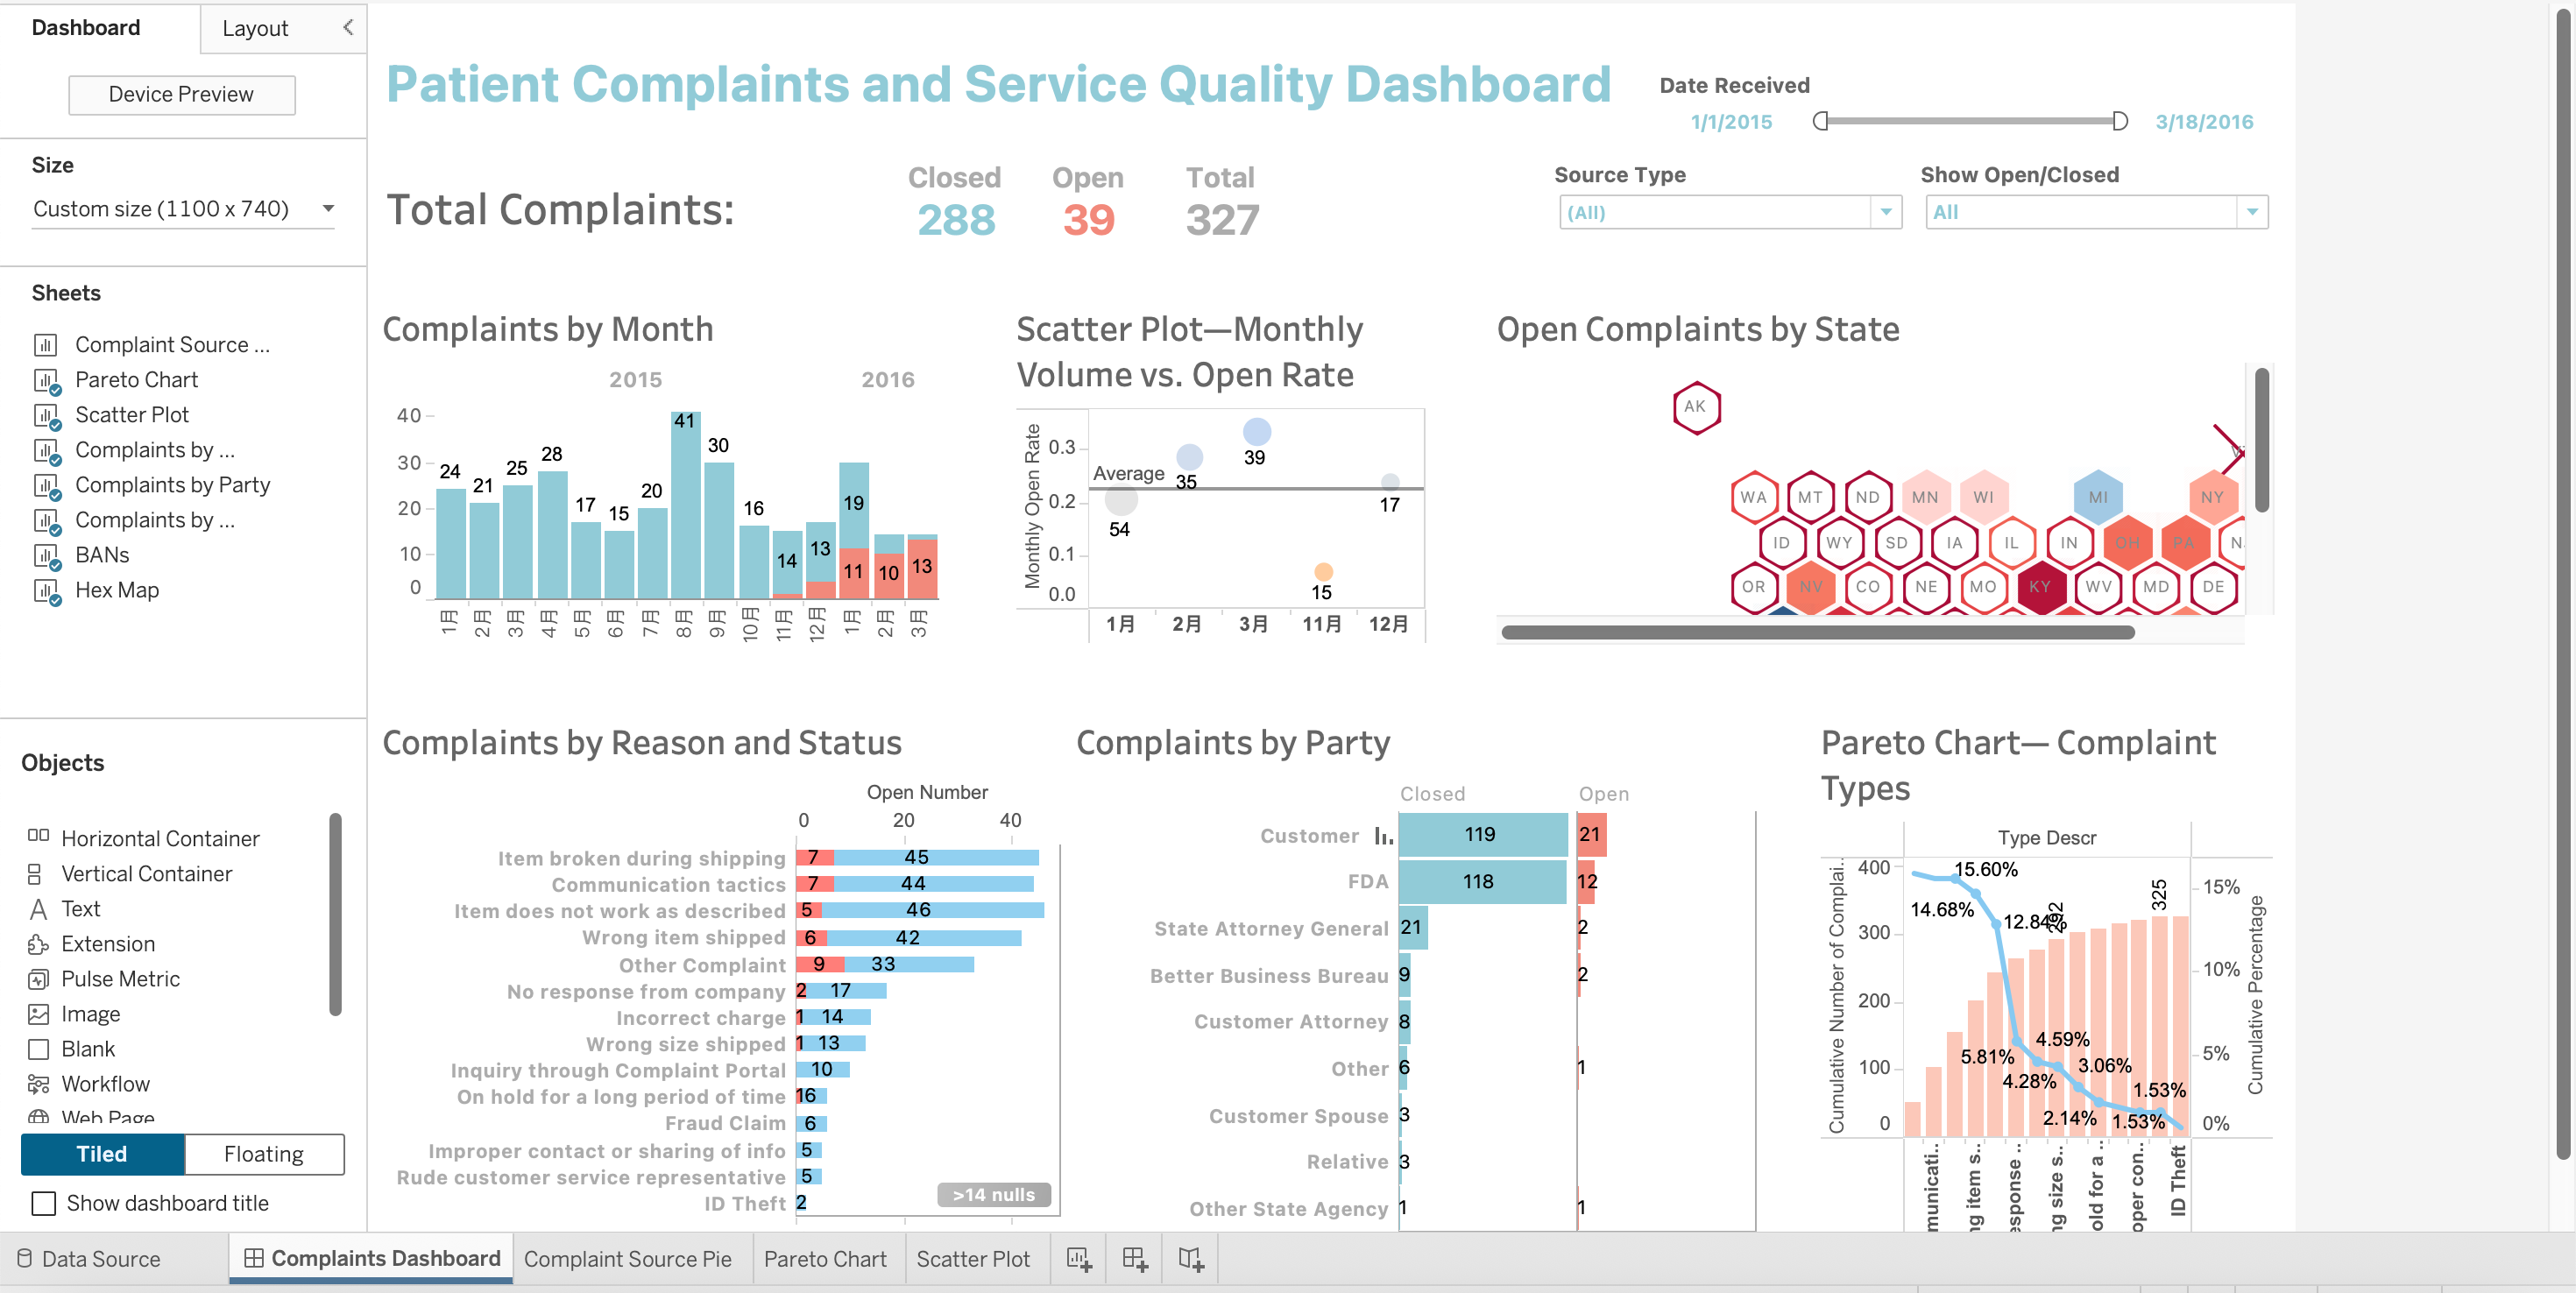

Layout of this report page (visuals, bound fields, positions):
{"tool":"tableau","page":{"name":"Complaints Dashboard","canvas":[1100,740],"ordinal":0},"visuals":[{"type":"text","box":[8,8,724.9,78.3]},{"type":"blank","box":[732.9,8,359.1,27.2]},{"type":"filter","title":"Complaints by Month","param":"[federated.0ny31h90rxo6f513hs3g61n0dnva].[none:RECEIVEDDate:qk]","box":[732.9,35.2,359.1,51.1]},{"type":"text","box":[8,86.3,284.8,50.9]},{"type":"worksheet","title":"BANs","mark":"Automatic","cols":["Closed"],"box":[292.8,86.3,236.3,50.9]},{"type":"blank","box":[529.1,86.3,143.4,50.9]},{"type":"filter","title":"Complaints by Month","param":"[federated.0ny31h90rxo6f513hs3g61n0dnva].[none:ComplaintSourceDescr:nk]","box":[672.6,86.3,209.7,50.9]},{"type":"parameter","param":"[Parameters].[Parameter 2]","box":[882.3,86.3,209.7,50.9]},{"type":"blank","box":[8,137.1,1084,30.9]},{"type":"worksheet","title":"Complaints by Month","mark":"Bar","rows":["Number of Records"],"cols":["RECEIVEDDate","RECEIVEDDate"],"box":[8,168.1,322,201.9]},{"type":"blank","box":[330,168.1,36,201.9]},{"type":"worksheet","title":"Scatter Plot","mark":"Circle","rows":["Calculation_3937271978867642368"],"cols":["RECEIVEDDate"],"box":[366,168.1,242,201.9]},{"type":"blank","box":[608,168.1,32,201.9]},{"type":"worksheet","title":"Hex Map","mark":"Shape","rows":["Row"],"cols":["Column"],"box":[640,168.1,452,201.9]},{"type":"blank","box":[8,370,1084,34]},{"type":"worksheet","title":"Complaints by Reason","mark":"Bar","rows":["TypeDescr"],"cols":["Calculation_734931173276549120","Closed Number (copy)"],"box":[8,404,392,328]},{"type":"worksheet","title":"Complaints by Party","mark":"Bar","rows":["FromContactPartyDescr"],"cols":["Closed","Number of Records"],"box":[400,404,397,328]},{"type":"blank","box":[797,404,28,328]},{"type":"worksheet","title":"Pareto Chart","mark":"Automatic","rows":["Number of Records","Number of Records"],"cols":["TypeDescr"],"box":[825,404,267,328]}]}

Visuals, with their boxes on the page's 1100x740 design canvas (x1, y1, x2, y2). These are canvas units, not pixel positions in the 2576x1293 screenshot, which may show the page scaled, cropped or inside an application window:
text: crop(8, 8, 733, 86)
blank: crop(733, 8, 1092, 35)
"Complaints by Month" filter: crop(733, 35, 1092, 86)
text: crop(8, 86, 293, 137)
"BANs" worksheet: crop(293, 86, 529, 137)
blank: crop(529, 86, 672, 137)
"Complaints by Month" filter: crop(673, 86, 882, 137)
parameter: crop(882, 86, 1092, 137)
blank: crop(8, 137, 1092, 168)
"Complaints by Month" worksheet (Bar marks): crop(8, 168, 330, 370)
blank: crop(330, 168, 366, 370)
"Scatter Plot" worksheet (Circle marks): crop(366, 168, 608, 370)
blank: crop(608, 168, 640, 370)
"Hex Map" worksheet (Shape marks): crop(640, 168, 1092, 370)
blank: crop(8, 370, 1092, 404)
"Complaints by Reason" worksheet (Bar marks): crop(8, 404, 400, 732)
"Complaints by Party" worksheet (Bar marks): crop(400, 404, 797, 732)
blank: crop(797, 404, 825, 732)
"Pareto Chart" worksheet: crop(825, 404, 1092, 732)
